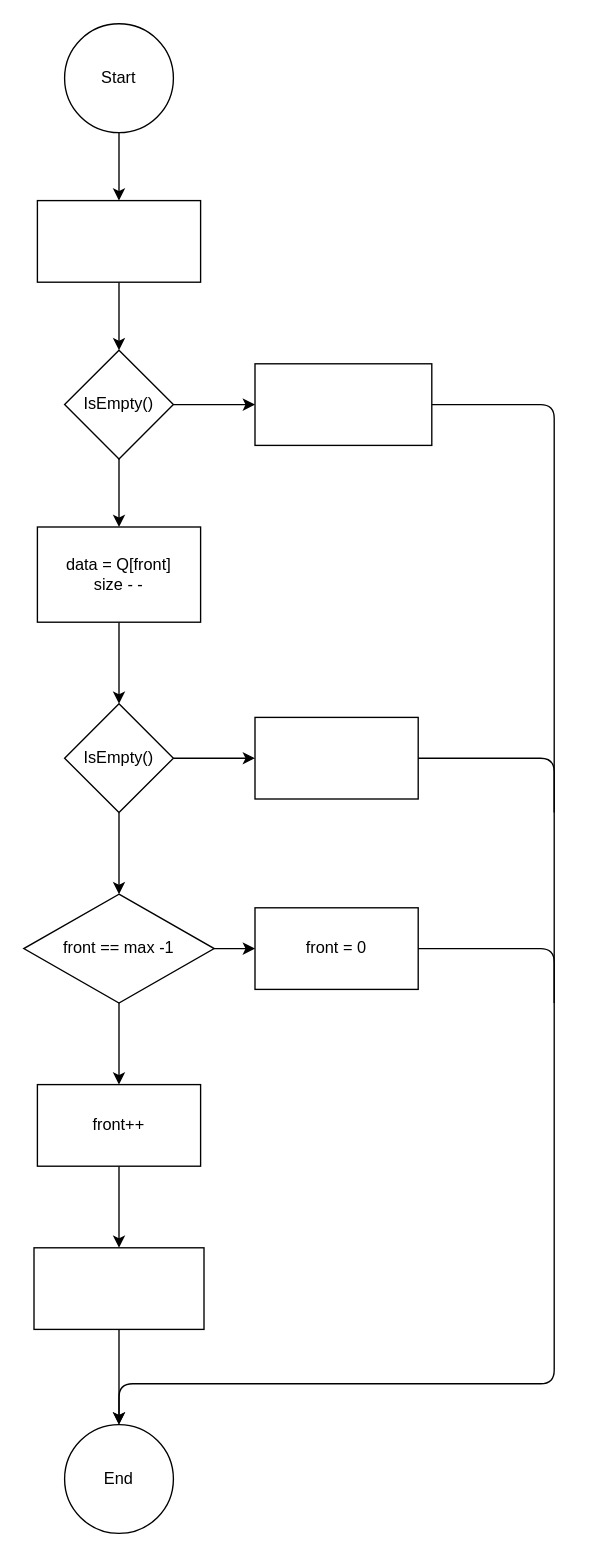
This 589x1557 diagram has some shape labels left out. Each missing label, with the centre of its shape:
front = rear = -1: [336,757]
int data = 0: [118,240]
print "Queue masih kosong": [343,403]
return data: [118,1287]
